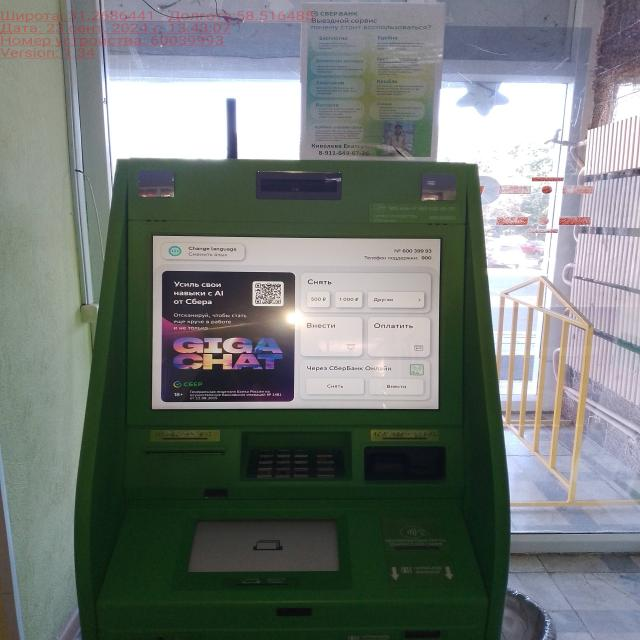bank: (74, 158, 511, 640)
